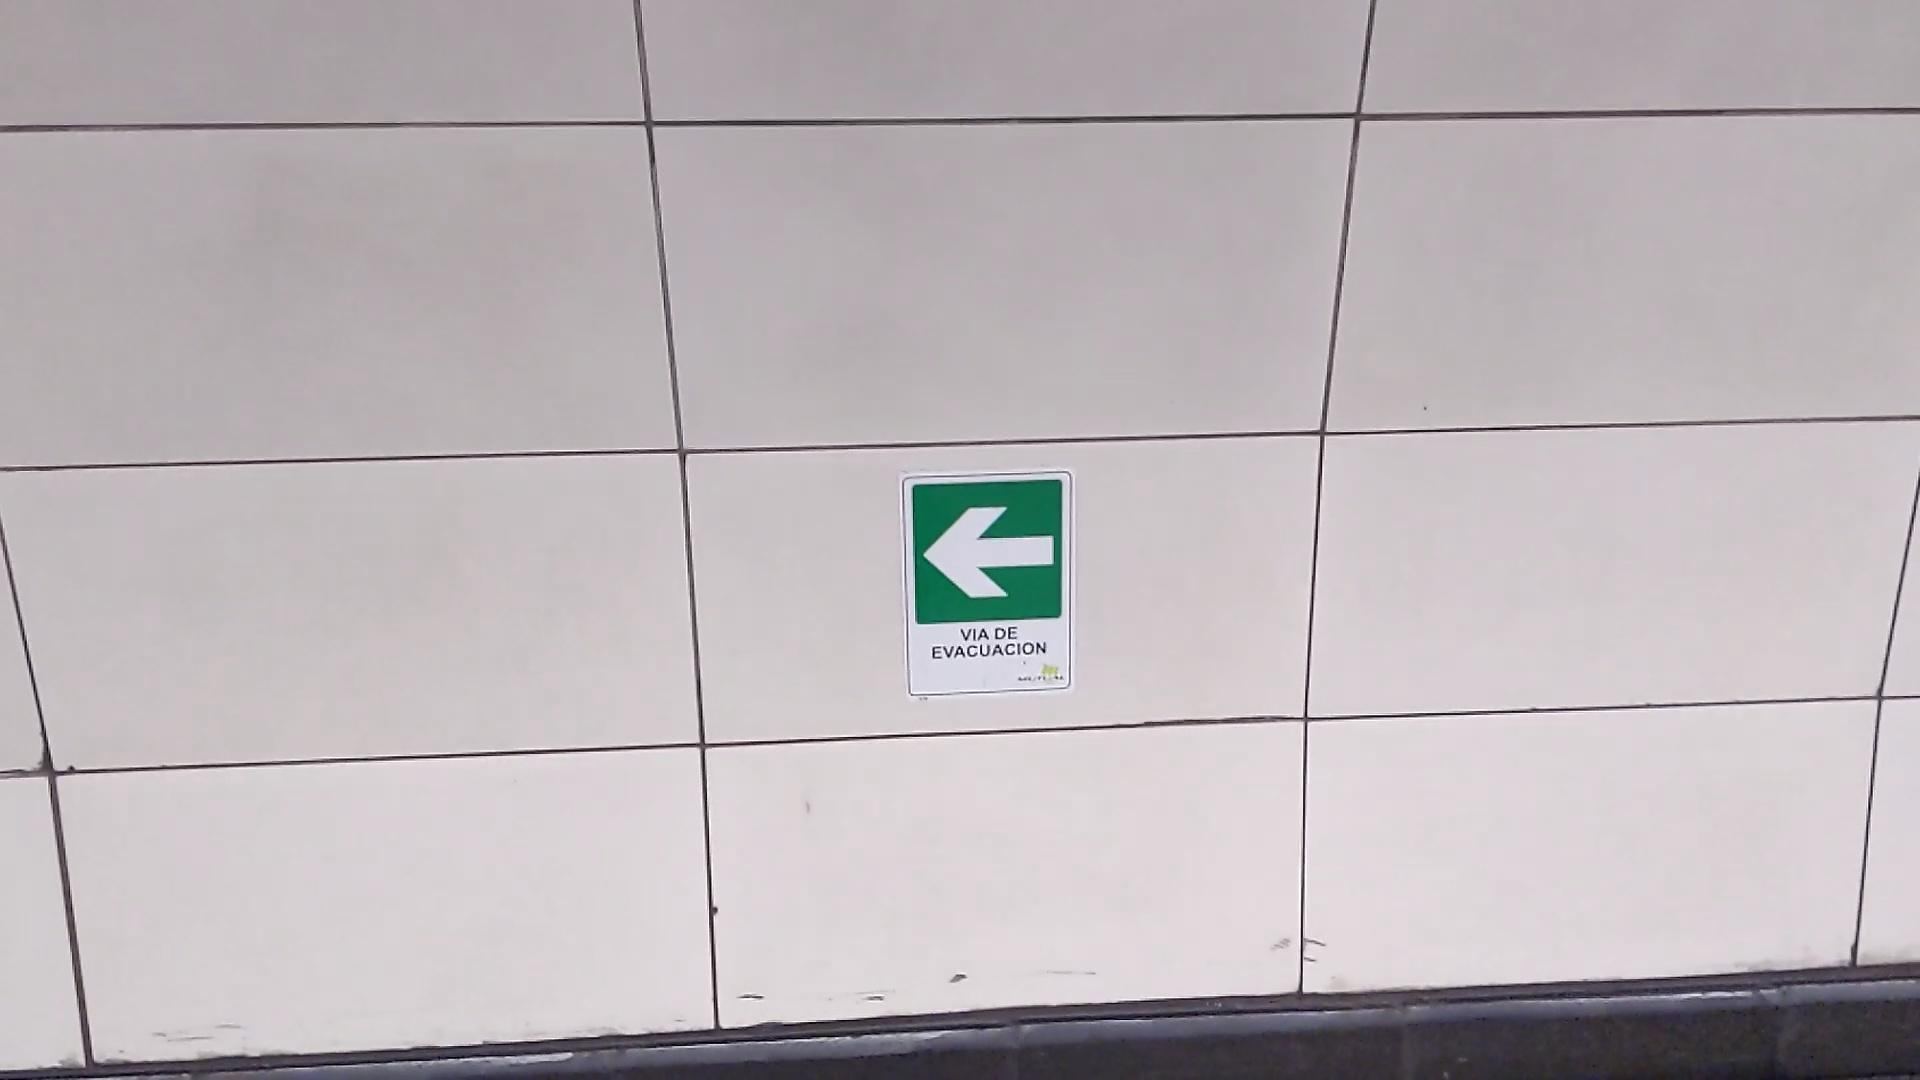emergency left arrow: (919, 504, 1060, 605)
